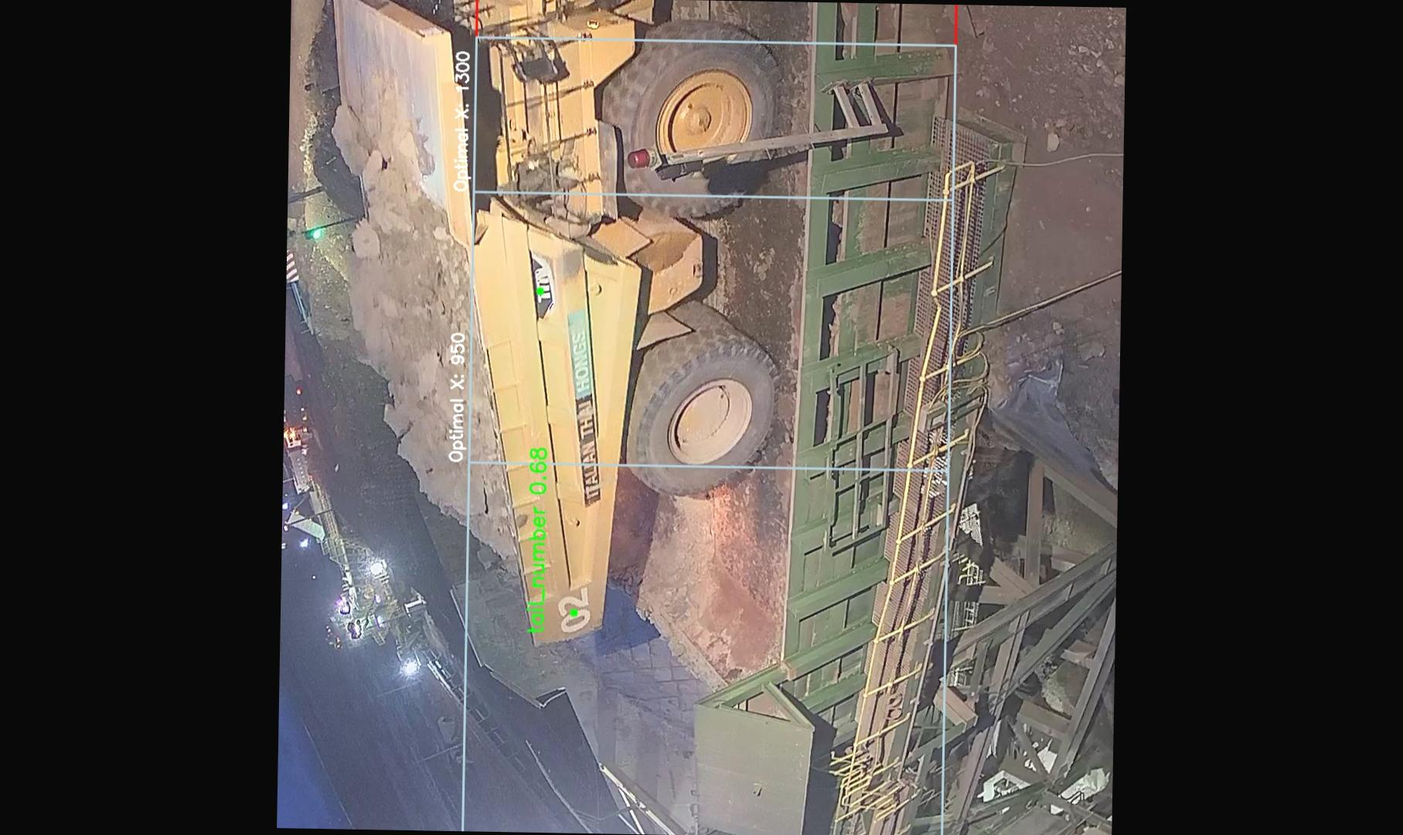company: (560, 306, 603, 516)
full_load: (338, 206, 505, 479)
mining_truck: (301, 0, 792, 656)
tail_number: (545, 582, 601, 642)
truck_size: (524, 250, 560, 327)
